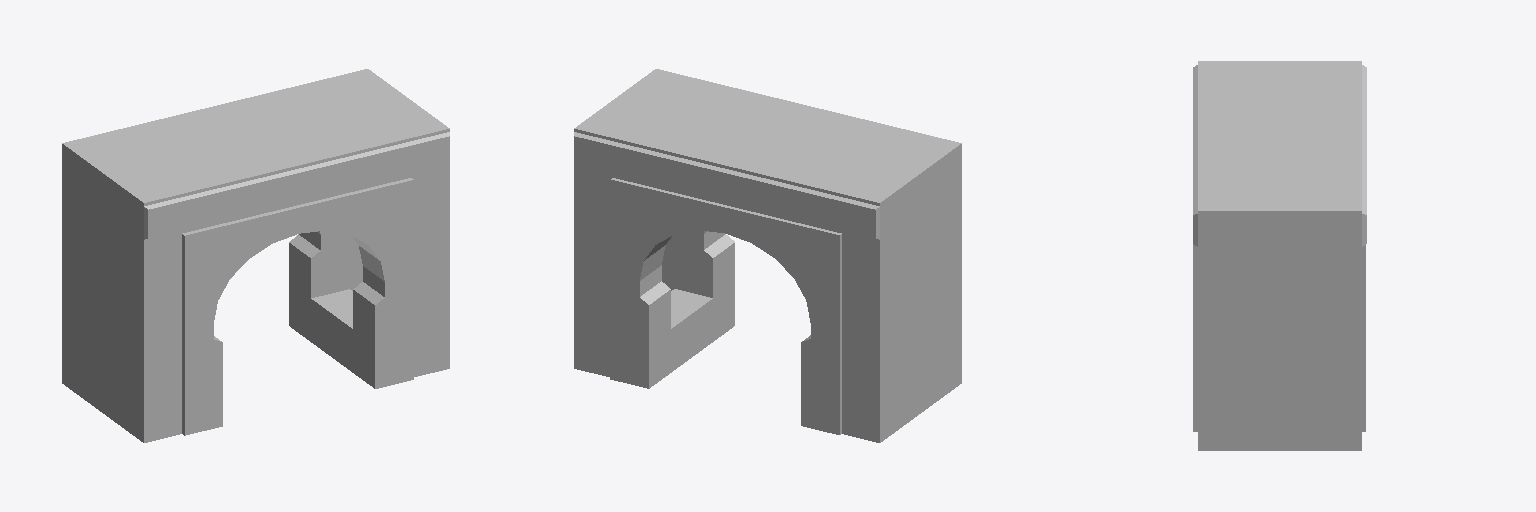
File: Bridge.obj
The picture shows the model from 3 angles: view 1: azimuth 30°, elevation 25°; view 2: azimuth 150°, elevation 25°; view 3: azimuth 270°, elevation 25°; orthographic projection.
Parts seen in each view (by area): view 1: Bridge; view 2: Bridge; view 3: Bridge.
Boxes of the visible parts, <box> form: Bridge: <box>62,69,449,442</box>; Bridge: <box>574,69,961,442</box>; Bridge: <box>1193,61,1366,450</box>.
Size of the model in its own units: 54.67 by 41 by 26.89.